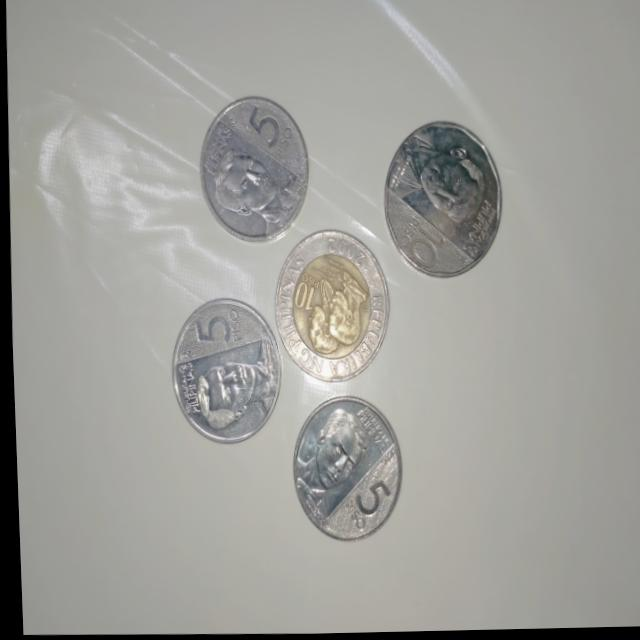10_New_Front: (381, 139, 497, 277)
10_Old_Front: (273, 247, 384, 373)
5_New_Front: (284, 399, 397, 539), (198, 104, 306, 242), (167, 307, 275, 440)
